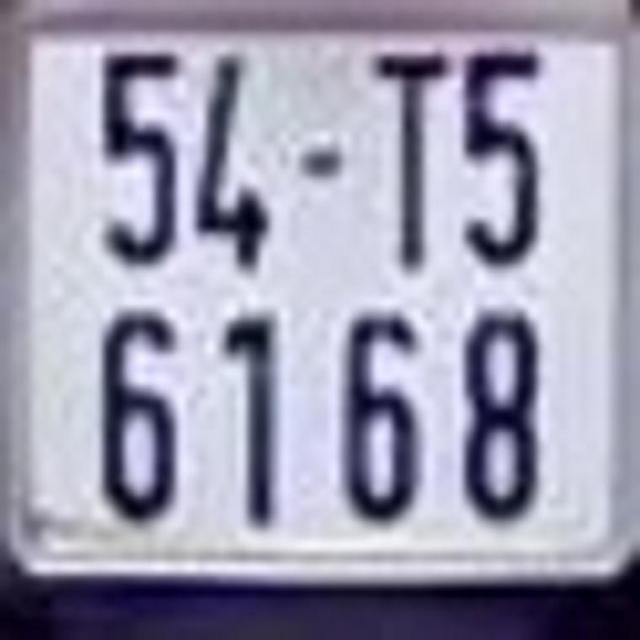1: (214, 300, 288, 527)
4: (190, 43, 278, 279)
5: (457, 48, 548, 268), (94, 46, 184, 266)
6: (95, 296, 180, 522), (335, 300, 420, 524)
8: (458, 296, 543, 519)
T: (368, 40, 455, 269)
